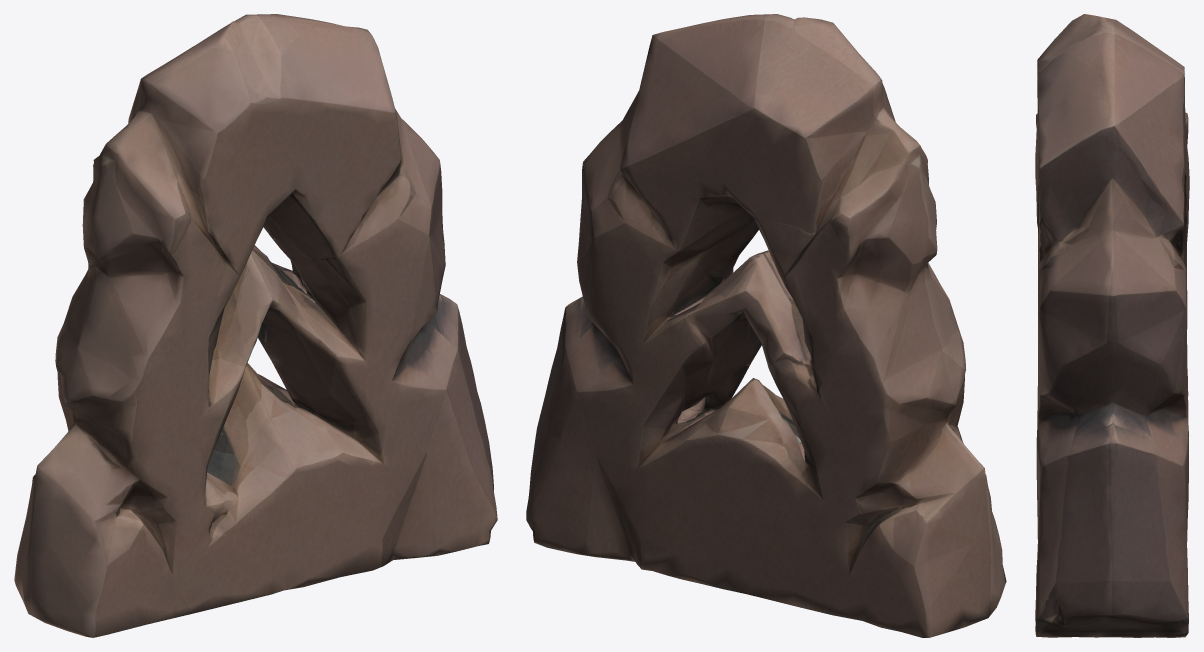
The model's file is PowerRune_5000.fbx.
3 views of the same model, side by side, from view 1: azimuth 30°, elevation 25°; view 2: azimuth 150°, elevation 25°; view 3: azimuth 270°, elevation 25° (orthographic). The views are drawn at different scales.
Parts seen in each view (by area): view 1: texture_mapping; view 2: texture_mapping; view 3: texture_mapping.
Boxes of the visible parts, <box> form: texture_mapping: <box>14,14,497,637</box>; texture_mapping: <box>526,14,1006,637</box>; texture_mapping: <box>1035,14,1189,637</box>.
Bounding box in the file's own units: 0.8701 × 0.2693 × 1.
Materials: 1 (1 with a texture image).
